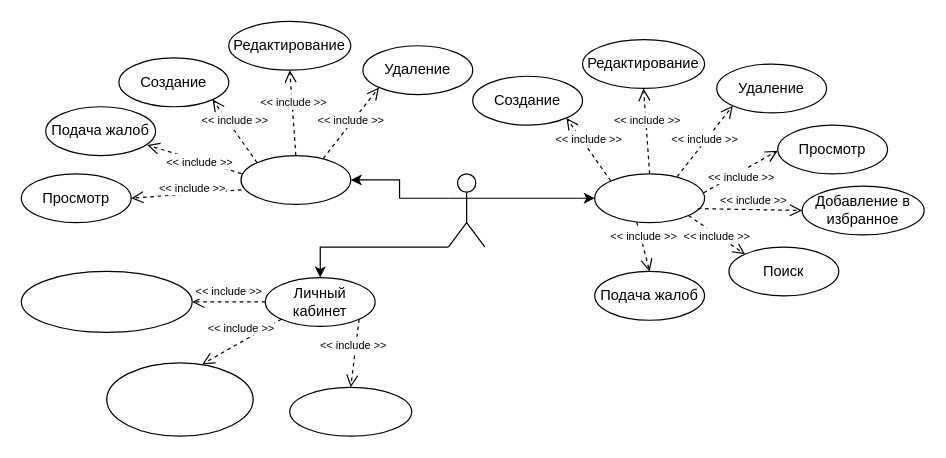
The diagram is 946 pixels wide and 458 high, and some of its shapes have lost their labels. Each missing label, with the centre of its shape:
"Избранное": pixel 350 411
Объявления: pixel 649 198
Отзывы: pixel 295 179
Пользователь: pixel 466 210
Редактирование личной информации: pixel 106 301
Управление собственными объявлениями: pixel 179 399
